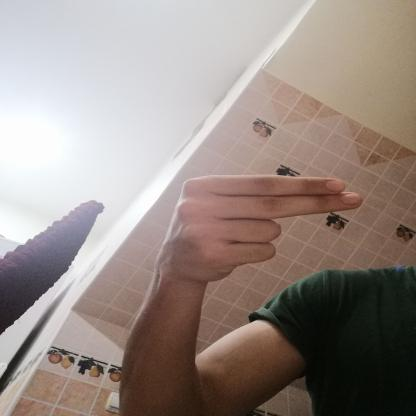AYN: (143, 163, 382, 297)
